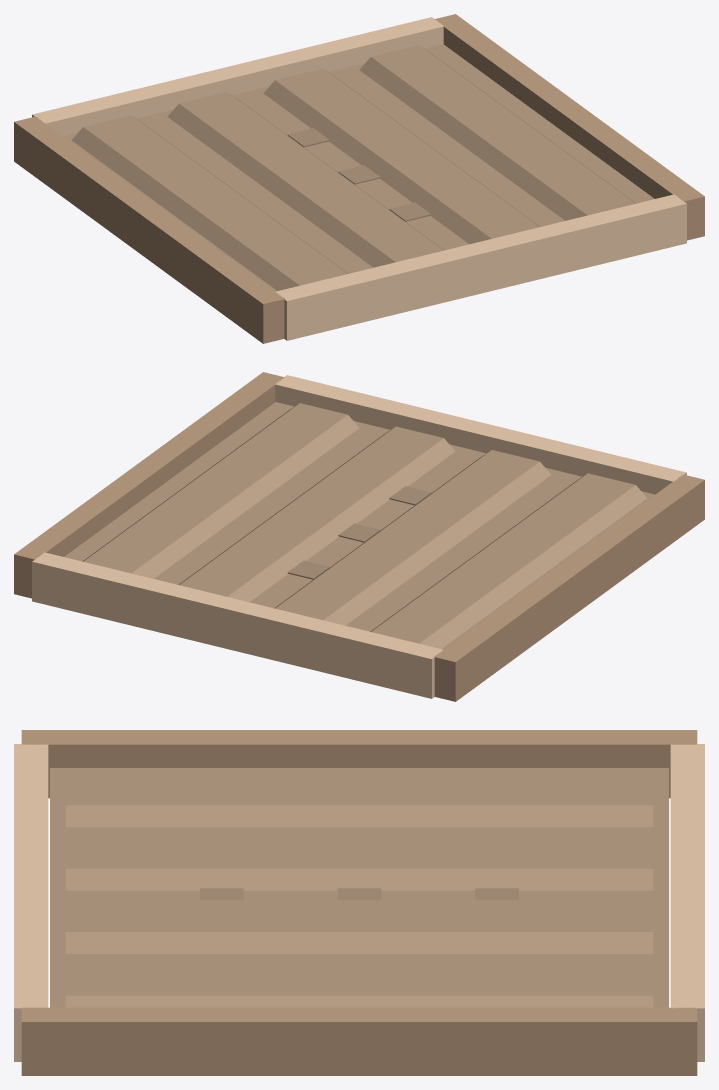
Rendered from crafted-garden-bed-wet-planted.glb.
3 views of the same model, one above another, from view 1: azimuth 30°, elevation 25°; view 2: azimuth 150°, elevation 25°; view 3: azimuth 270°, elevation 25° (orthographic). The views are drawn at different scales.
Parts seen in each view (by area): view 1: end-border-1, soil-base, side-border, furrow-ridge-3, furrow-ridge, furrow-ridge-1, furrow-ridge-2, end-border, side-border-1; view 2: end-border, soil-base, side-border, furrow-ridge-3, furrow-ridge, furrow-ridge-1, furrow-ridge-2, end-border-1, side-border-1; view 3: side-border-1, furrow-ridge, furrow-ridge-2, furrow-ridge-1, soil-base, furrow-ridge-3, side-border, end-border, end-border-1, seed-dimple-1, seed-dimple, seed-dimple-2.
Boxes of the visible parts, x1,y1,x2,y2 form: end-border-1: (275,194,686,340); soil-base: (64,44,654,291); side-border: (14,116,284,343); furrow-ridge-3: (359,45,636,220); furrow-ridge: (71,115,348,290); furrow-ridge-1: (167,92,444,267); furrow-ridge-2: (263,68,540,244); end-border: (32,17,443,136); side-border-1: (434,14,704,240); end-border: (32,552,442,698); soil-base: (64,402,654,649); side-border: (434,474,704,701); furrow-ridge-3: (82,403,359,578); furrow-ridge: (370,473,647,648); furrow-ridge-1: (274,450,551,625); furrow-ridge-2: (178,426,455,602); end-border-1: (275,375,686,494); side-border-1: (14,372,284,598); side-border-1: (21,1007,697,1075); furrow-ridge: (65,773,653,827); furrow-ridge-2: (65,900,653,953); furrow-ridge-1: (65,837,653,890); soil-base: (50,768,668,1007); furrow-ridge-3: (65,964,653,1007); side-border: (21,730,697,798); end-border: (670,744,704,1061); end-border-1: (14,744,48,1061); seed-dimple-1: (337,888,381,900); seed-dimple: (475,888,518,900); seed-dimple-2: (200,888,243,900).
Size of the model in its own units: 1.11 by 0.095 by 1.11.
